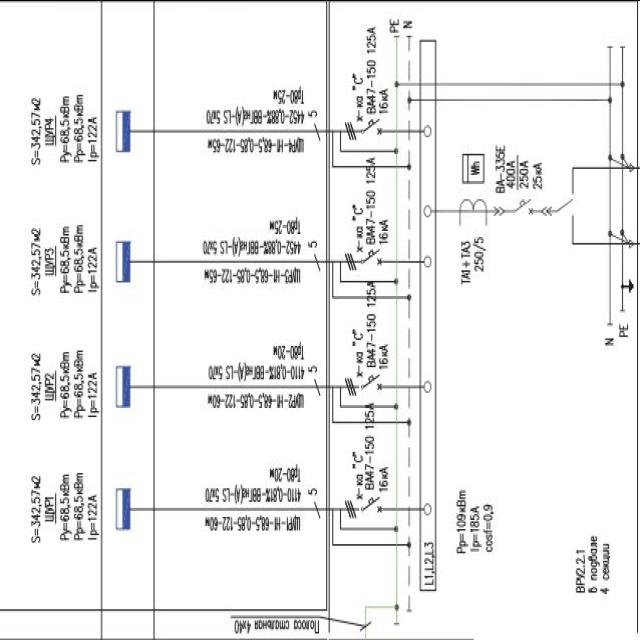-: (351, 19, 393, 122), (350, 276, 392, 379), (350, 152, 392, 255), (351, 398, 393, 501), (494, 142, 544, 196), (571, 531, 613, 595), (459, 232, 486, 286)
Q: (492, 195, 554, 215)
QF: (344, 372, 384, 397), (343, 116, 383, 140), (344, 248, 384, 272), (344, 494, 384, 518)
TT: (456, 196, 488, 228)
WH: (462, 151, 484, 185)
switch: (555, 189, 578, 223)
